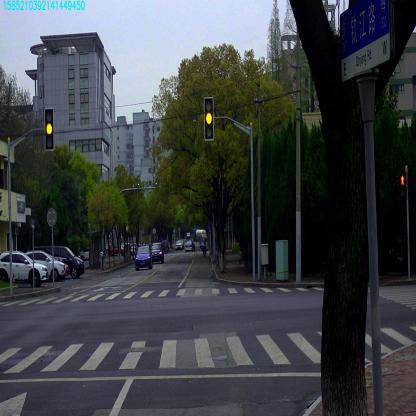traffic-light: (204, 97, 214, 140), (44, 108, 53, 150)
